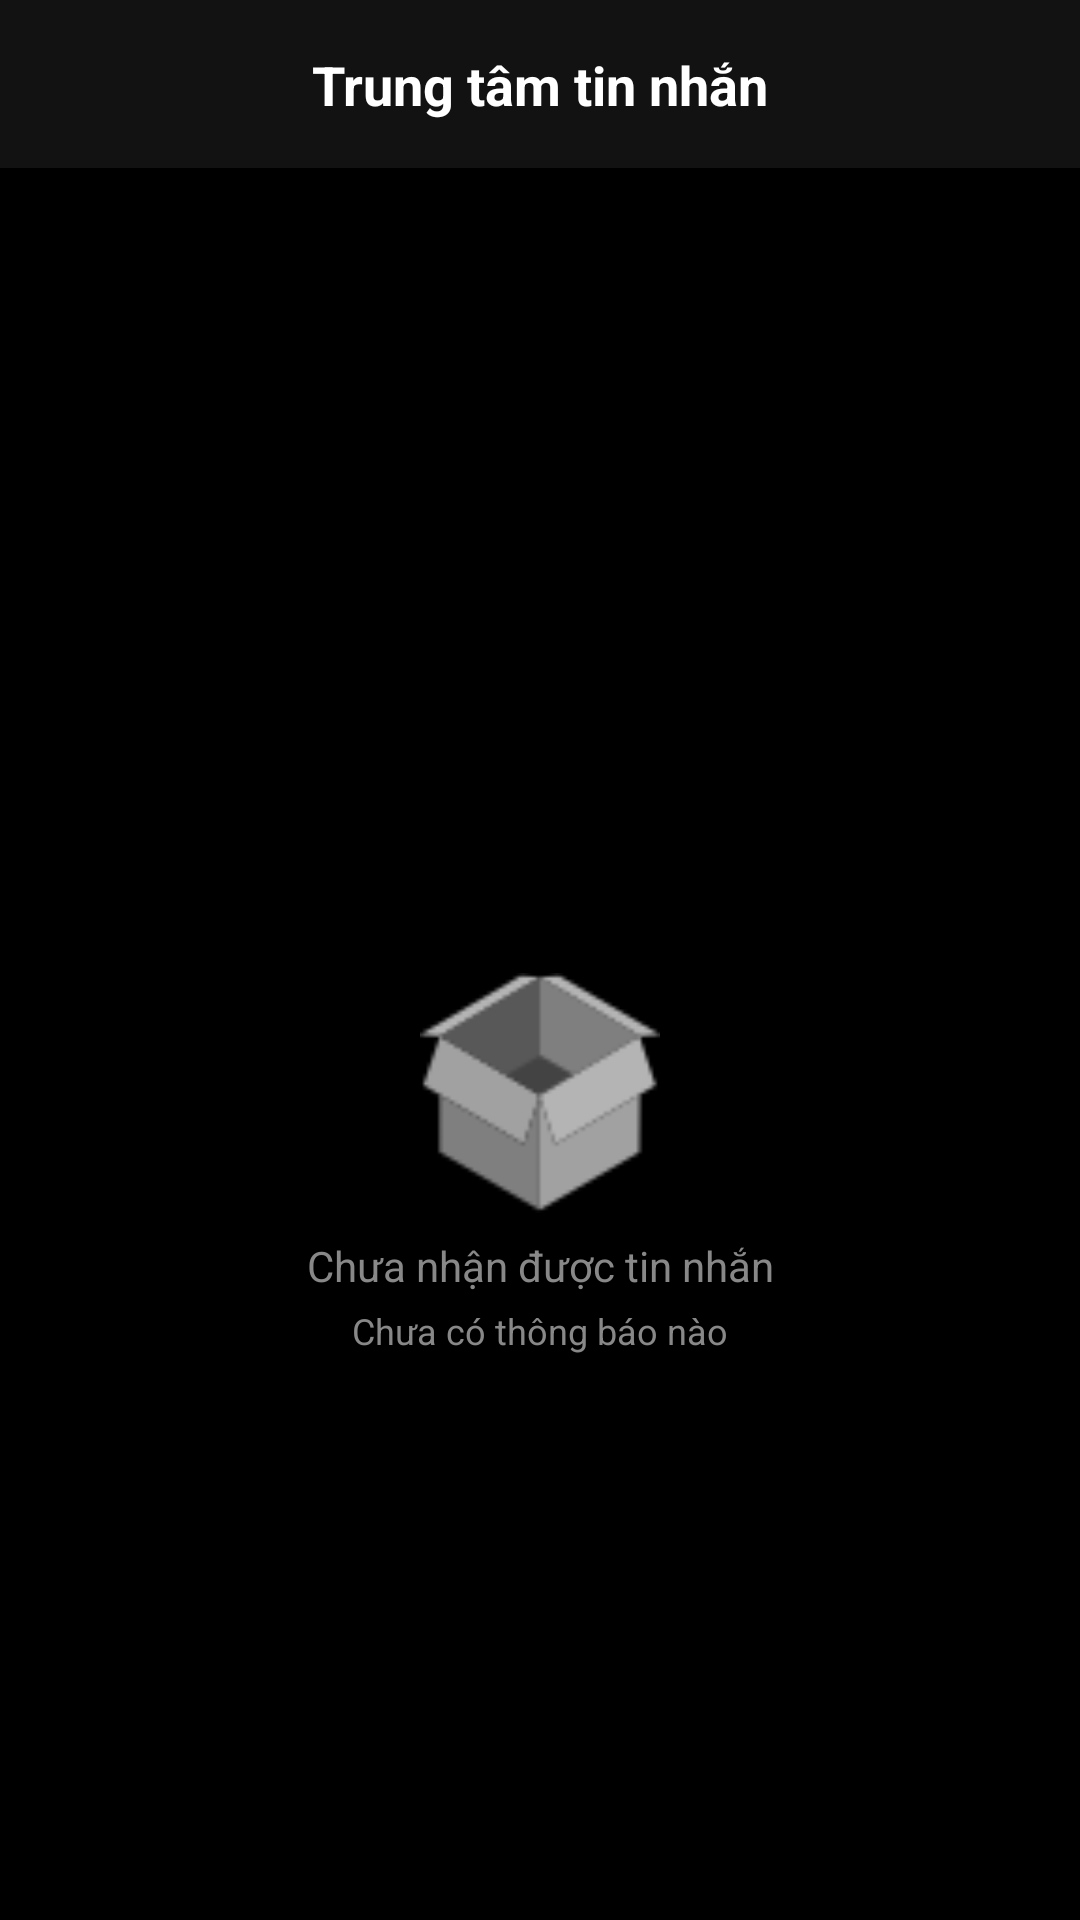

Screen size 1080*1920. Icon name, then its center in pixels as (x,y):
Empty box: (540,1093)
